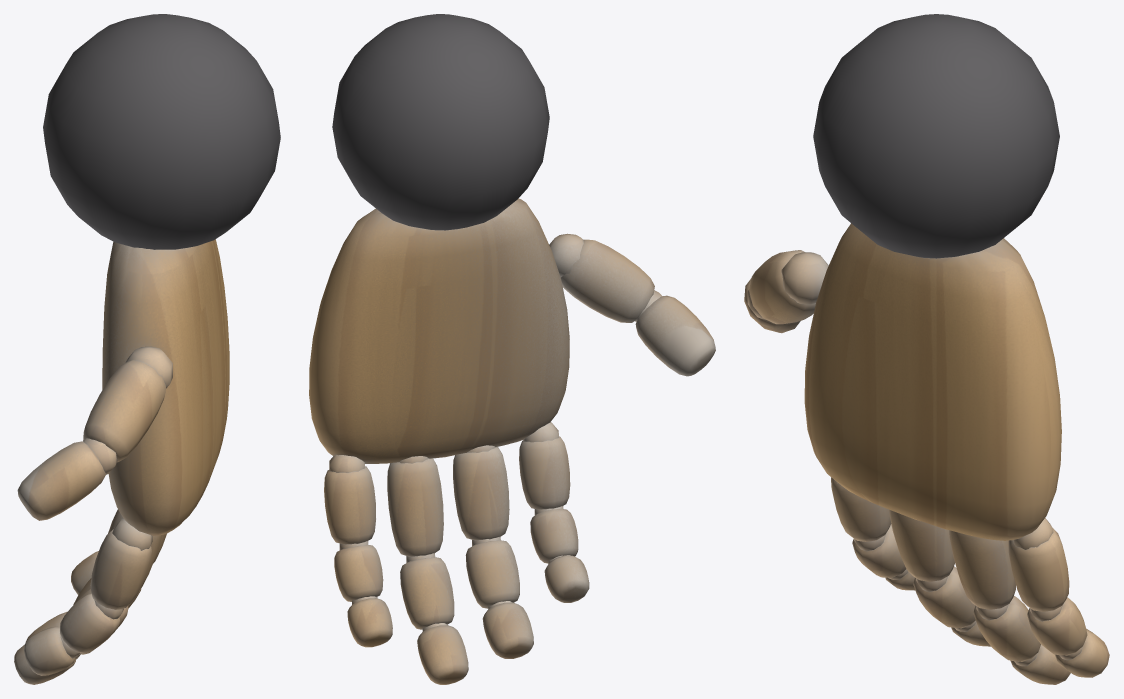
The model's file is Hand_L.glb.
3 views of the same model, side by side, from view 1: azimuth 30°, elevation 25°; view 2: azimuth 150°, elevation 25°; view 3: azimuth 270°, elevation 25° (orthographic). The views are drawn at different scales.
Parts seen in each view (by area): view 1: Hand_L, Hand_L_Ball; view 2: Hand_L, Hand_L_Ball; view 3: Hand_L, Hand_L_Ball.
Boxes of the visible parts, <box> form: Hand_L: <box>14,239,229,684</box>; Hand_L_Ball: <box>43,14,280,249</box>; Hand_L: <box>309,198,715,684</box>; Hand_L_Ball: <box>332,14,549,230</box>; Hand_L: <box>744,223,1109,684</box>; Hand_L_Ball: <box>813,14,1059,258</box>.
Size of the model in its own units: 0.112 by 0.2219 by 0.1066.
2 materials, 1 textured.
